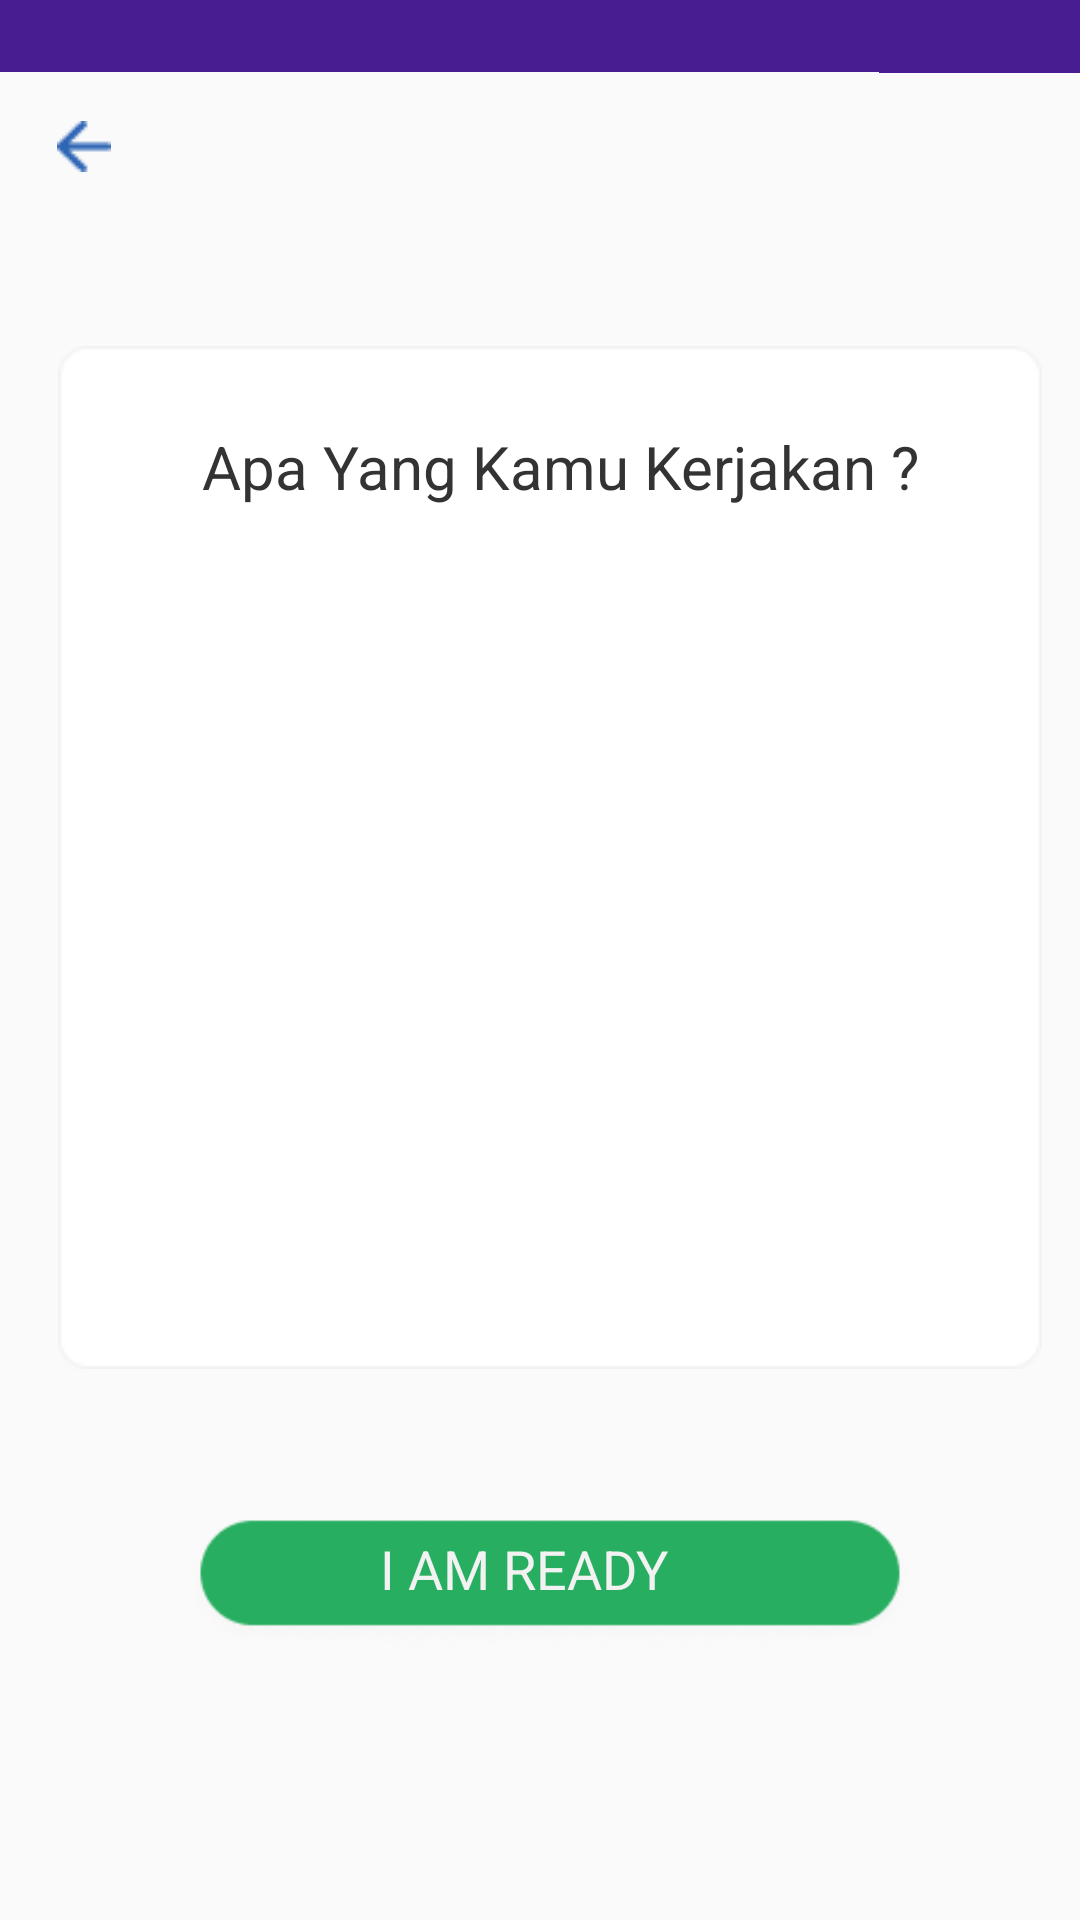

Locate icon controls on the screen. Image size 1080px×1920px, boxes as (x1,y1,x2,y2).
panah: (57,121,111,172)
